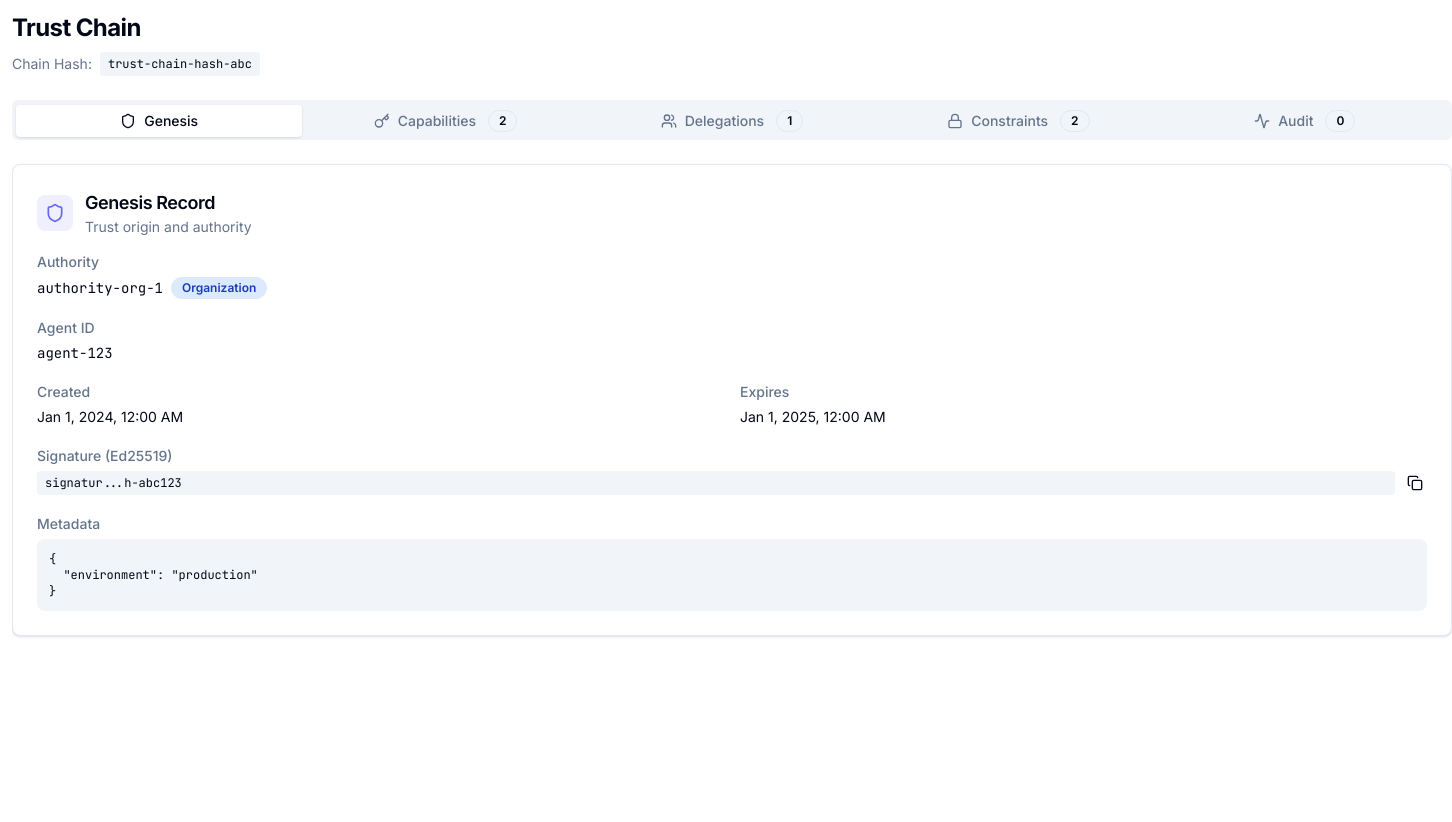
Test case: TrustChainViewer › Audit tab › should show empty state when no audit events
Step 1. Click the tab "Audit 0" → (1305, 121), box [1162, 104, 1448, 138]
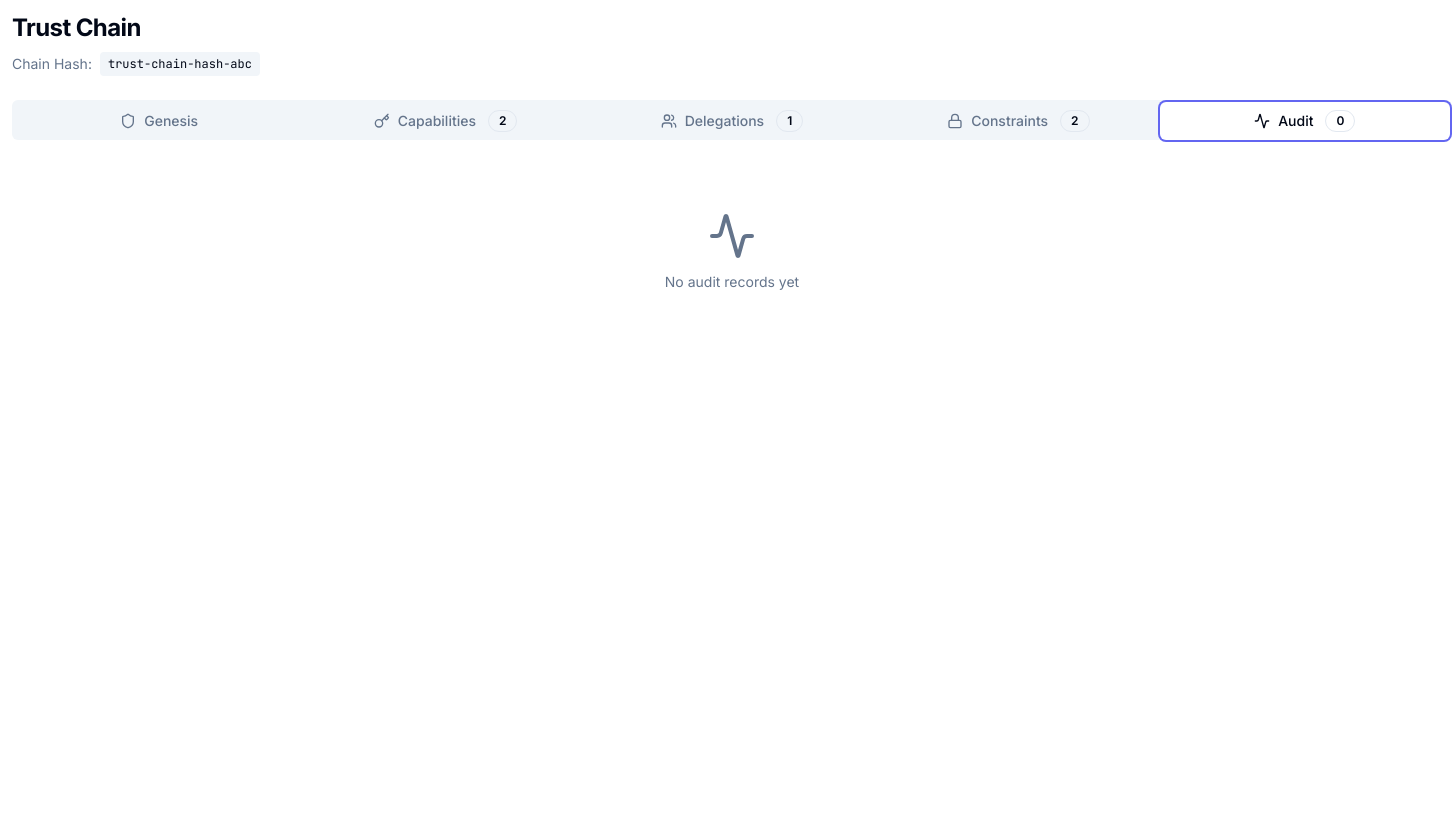
Now the text "No audit records yet" is shown, box [665, 272, 799, 292]
